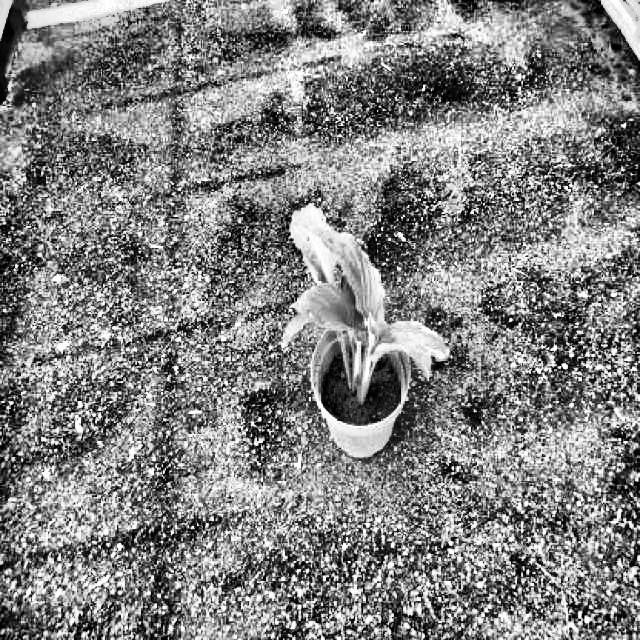plants: (280, 204, 454, 408)
